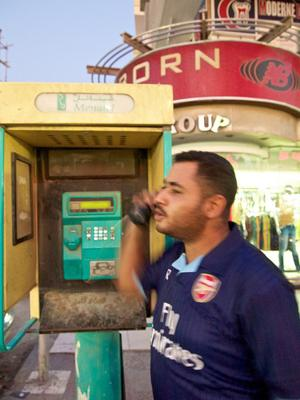person: (117, 152, 300, 400)
